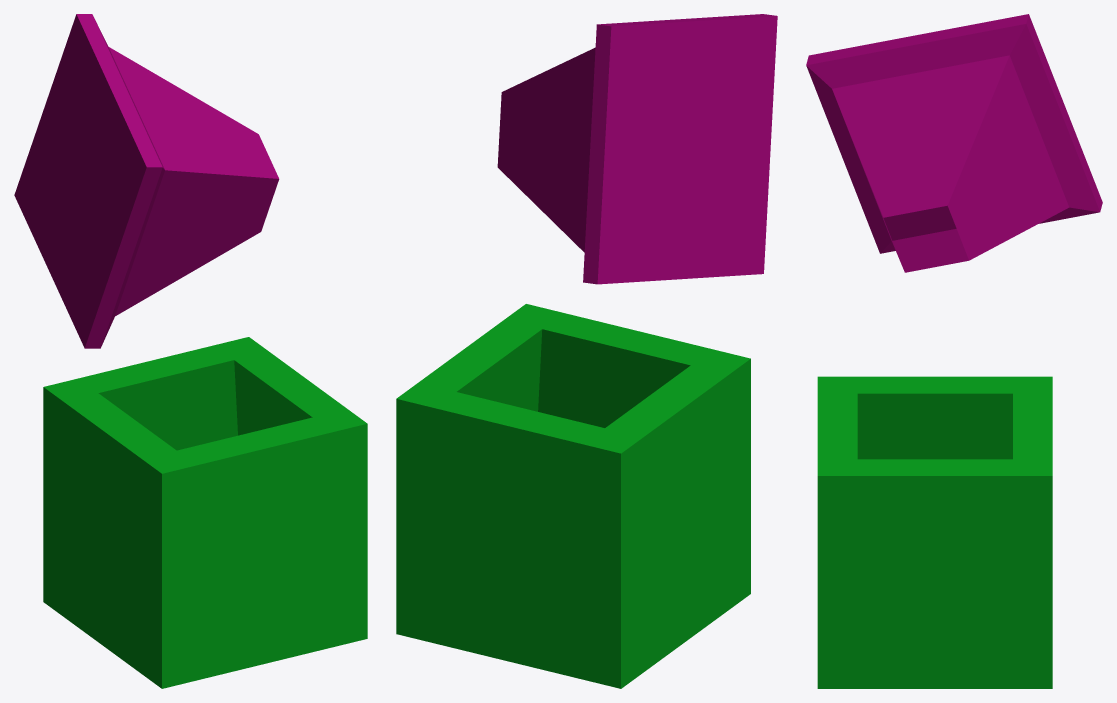
The model's file is AnimatedBox_000105.obj.
The picture shows the model from 3 angles, left to right: view 1: azimuth 30°, elevation 25°; view 2: azimuth 150°, elevation 25°; view 3: azimuth 270°, elevation 25°; orthographic projection. The views are drawn at different scales.
Visible parts, largest first — view 1: Cube, Cube.001; view 2: Cube, Cube.001; view 3: Cube, Cube.001.
Boxes of the visible parts, bbox=[...] form: Cube: bbox=[43, 337, 367, 688]; Cube.001: bbox=[14, 14, 279, 348]; Cube: bbox=[396, 304, 750, 688]; Cube.001: bbox=[497, 14, 777, 284]; Cube: bbox=[817, 376, 1052, 688]; Cube.001: bbox=[806, 14, 1102, 272].
Size of the model in its own units: 2.43 by 5.5 by 2.53.
